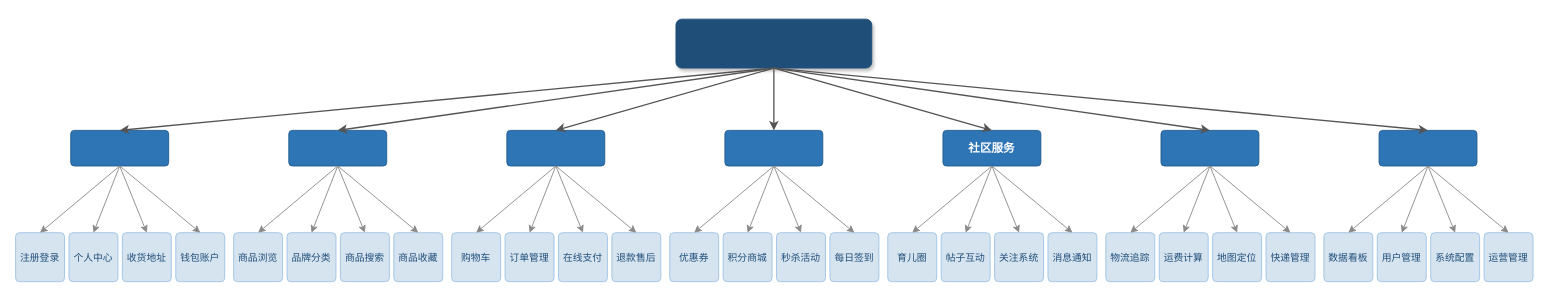
Some shapes in this 1549 by 297 pixel diagram are drawn without their labels. Each missing label, with the centre of its shape:
商品服务: (337,147)
母婴商城系统: (774,44)
物流服务: (1209,147)
用户服务: (119,147)
管理后台: (1427,147)
营销服务: (773,147)
订单服务: (555,147)
